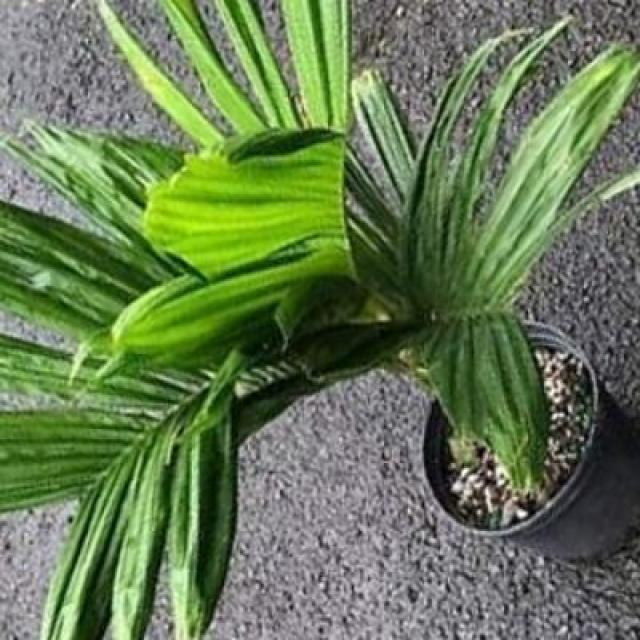Healthy_Leaf: (54, 109, 407, 589)
